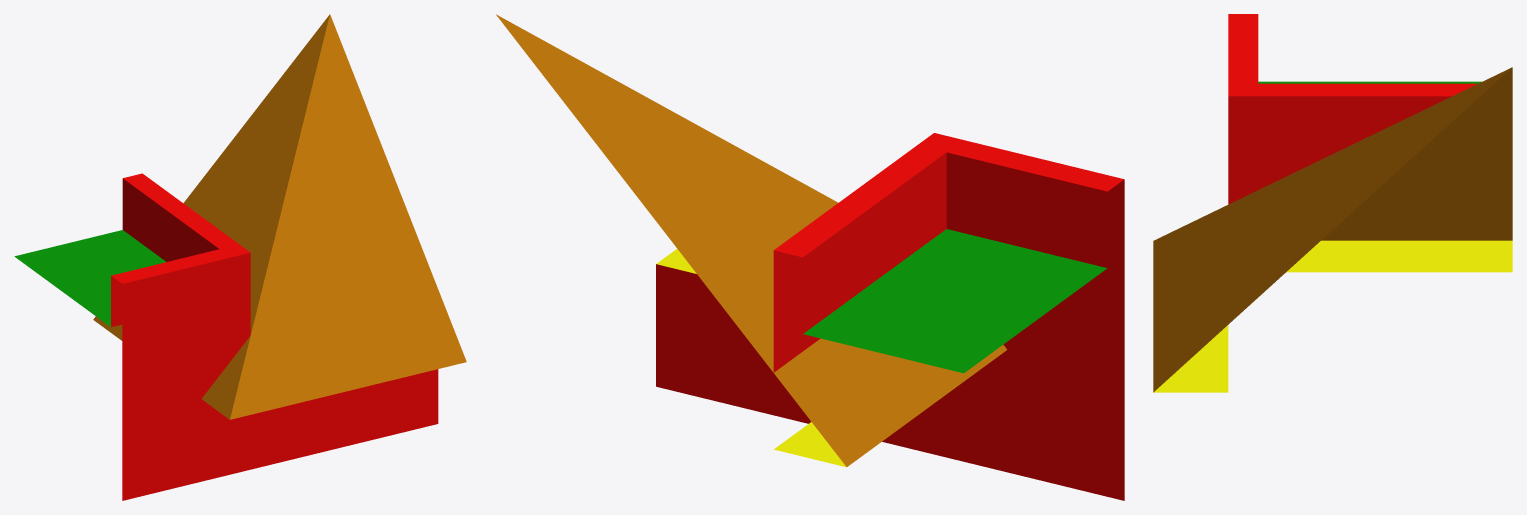
3 views of the same model, side by side, from view 1: azimuth 30°, elevation 25°; view 2: azimuth 150°, elevation 25°; view 3: azimuth 270°, elevation 25° (orthographic). The views are drawn at different scales.
Visible parts, largest first — view 1: None_S_E_E_E_W_E_E_E_None; view 2: None_S_E_E_E_W_E_E_E_None; view 3: None_S_E_E_E_W_E_E_E_None.
Part boxes in pixels (x1,y1,x2,y2): None_S_E_E_E_W_E_E_E_None: [14, 14, 466, 500]; None_S_E_E_E_W_E_E_E_None: [496, 14, 1124, 500]; None_S_E_E_E_W_E_E_E_None: [1153, 14, 1512, 392].
Size of the model in its own units: 100 by 100 by 75.
